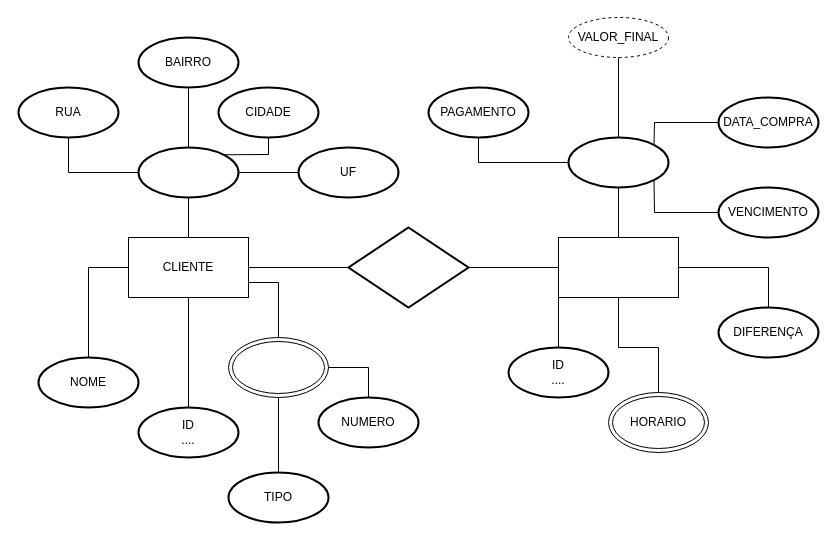
Some shapes in this 836 by 541 pixel diagram are drawn without their labels. Here are the shapes that lost their labels. From the top down, the box of each, then its label:
(137, 146, 239, 198): ENDERECO
(567, 136, 669, 188): VALOR
(347, 226, 469, 308): POSSUI
(558, 236, 678, 298): PARCELA
(228, 336, 328, 398): TELEFONE
